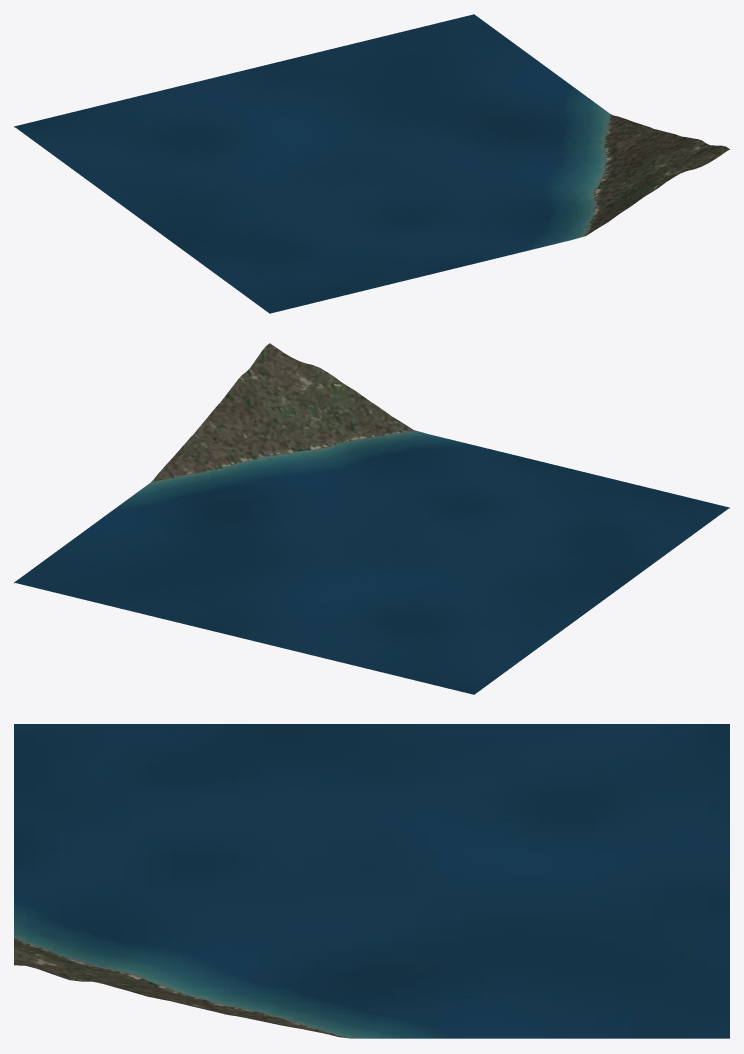
The picture shows the model from 3 angles, top to bottom: view 1: azimuth 30°, elevation 25°; view 2: azimuth 150°, elevation 25°; view 3: azimuth 270°, elevation 25°; orthographic projection. The views are drawn at different scales.
Bounding box in the file's own units: 500 × 55.34 × 481.
Materials: 1 (1 with a texture image).
